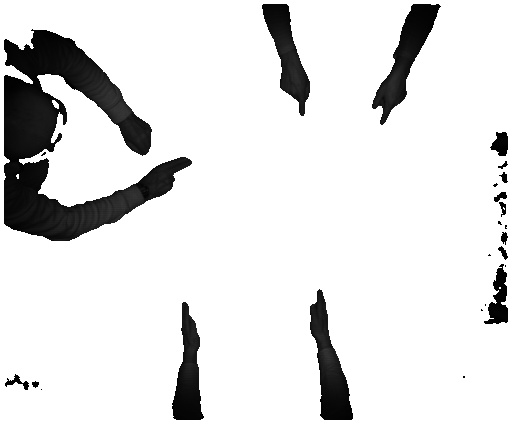fist: (117, 117, 159, 161)
hand: (368, 75, 415, 127), (147, 157, 191, 205), (280, 64, 311, 119)
spine: (304, 288, 335, 340), (176, 296, 199, 355)
